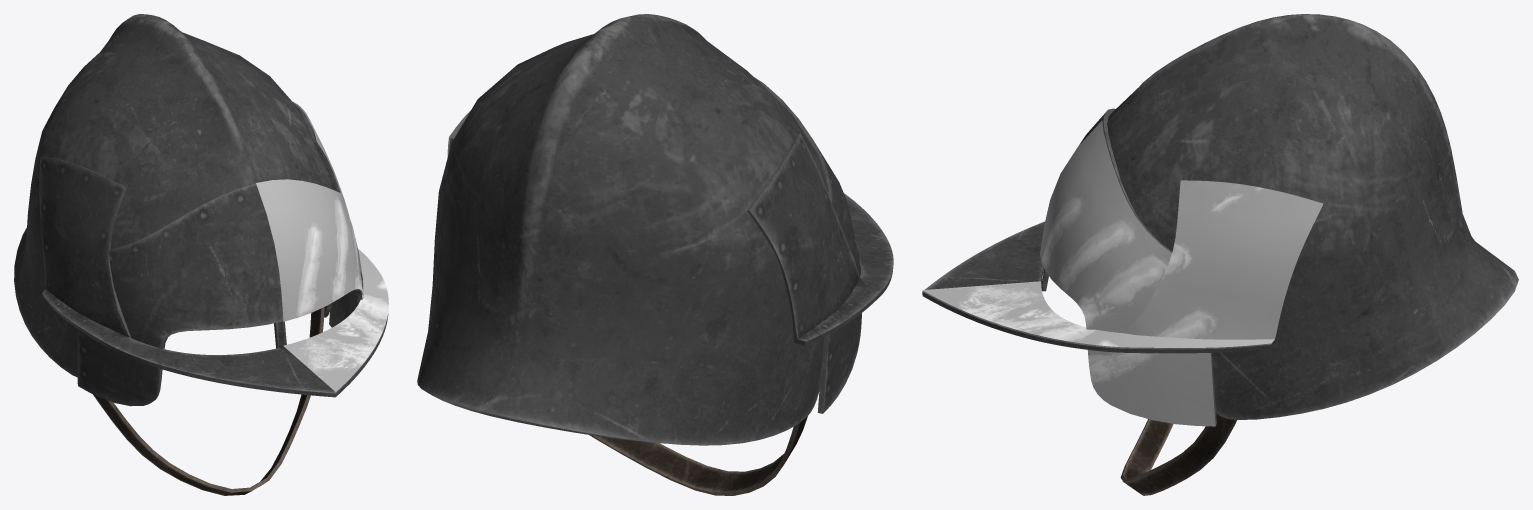
File: sk_uruk_hai_helmet_cross_a3.fbx
3 renders of one model, left to right at view 1: azimuth 30°, elevation 25°; view 2: azimuth 150°, elevation 25°; view 3: azimuth 270°, elevation 25°, orthographic. The views are drawn at different scales.
Parts seen in each view (by area): view 1: sk_uruk_hai_helmet_cross_a3.2, sk_uruk_hai_helmet_cross_a3.0, sk_uruk_hai_helmet_cross_a3.1; view 2: sk_uruk_hai_helmet_cross_a3.2, sk_uruk_hai_helmet_cross_a3.1; view 3: sk_uruk_hai_helmet_cross_a3.2, sk_uruk_hai_helmet_cross_a3.0, sk_uruk_hai_helmet_cross_a3.1.
Boxes of the visible parts, left/top/right/bottom form: sk_uruk_hai_helmet_cross_a3.2: left=14, top=14, right=388, bottom=406; sk_uruk_hai_helmet_cross_a3.0: left=256, top=102, right=388, bottom=391; sk_uruk_hai_helmet_cross_a3.1: left=93, top=307, right=324, bottom=495; sk_uruk_hai_helmet_cross_a3.2: left=417, top=14, right=893, bottom=445; sk_uruk_hai_helmet_cross_a3.1: left=589, top=416, right=807, bottom=495; sk_uruk_hai_helmet_cross_a3.2: left=922, top=14, right=1518, bottom=425; sk_uruk_hai_helmet_cross_a3.0: left=922, top=120, right=1323, bottom=426; sk_uruk_hai_helmet_cross_a3.1: left=1120, top=413, right=1236, bottom=495.
Bounding box in the file's own units: 0.2268 × 0.3605 × 0.3151.
3 materials, 3 textured.
